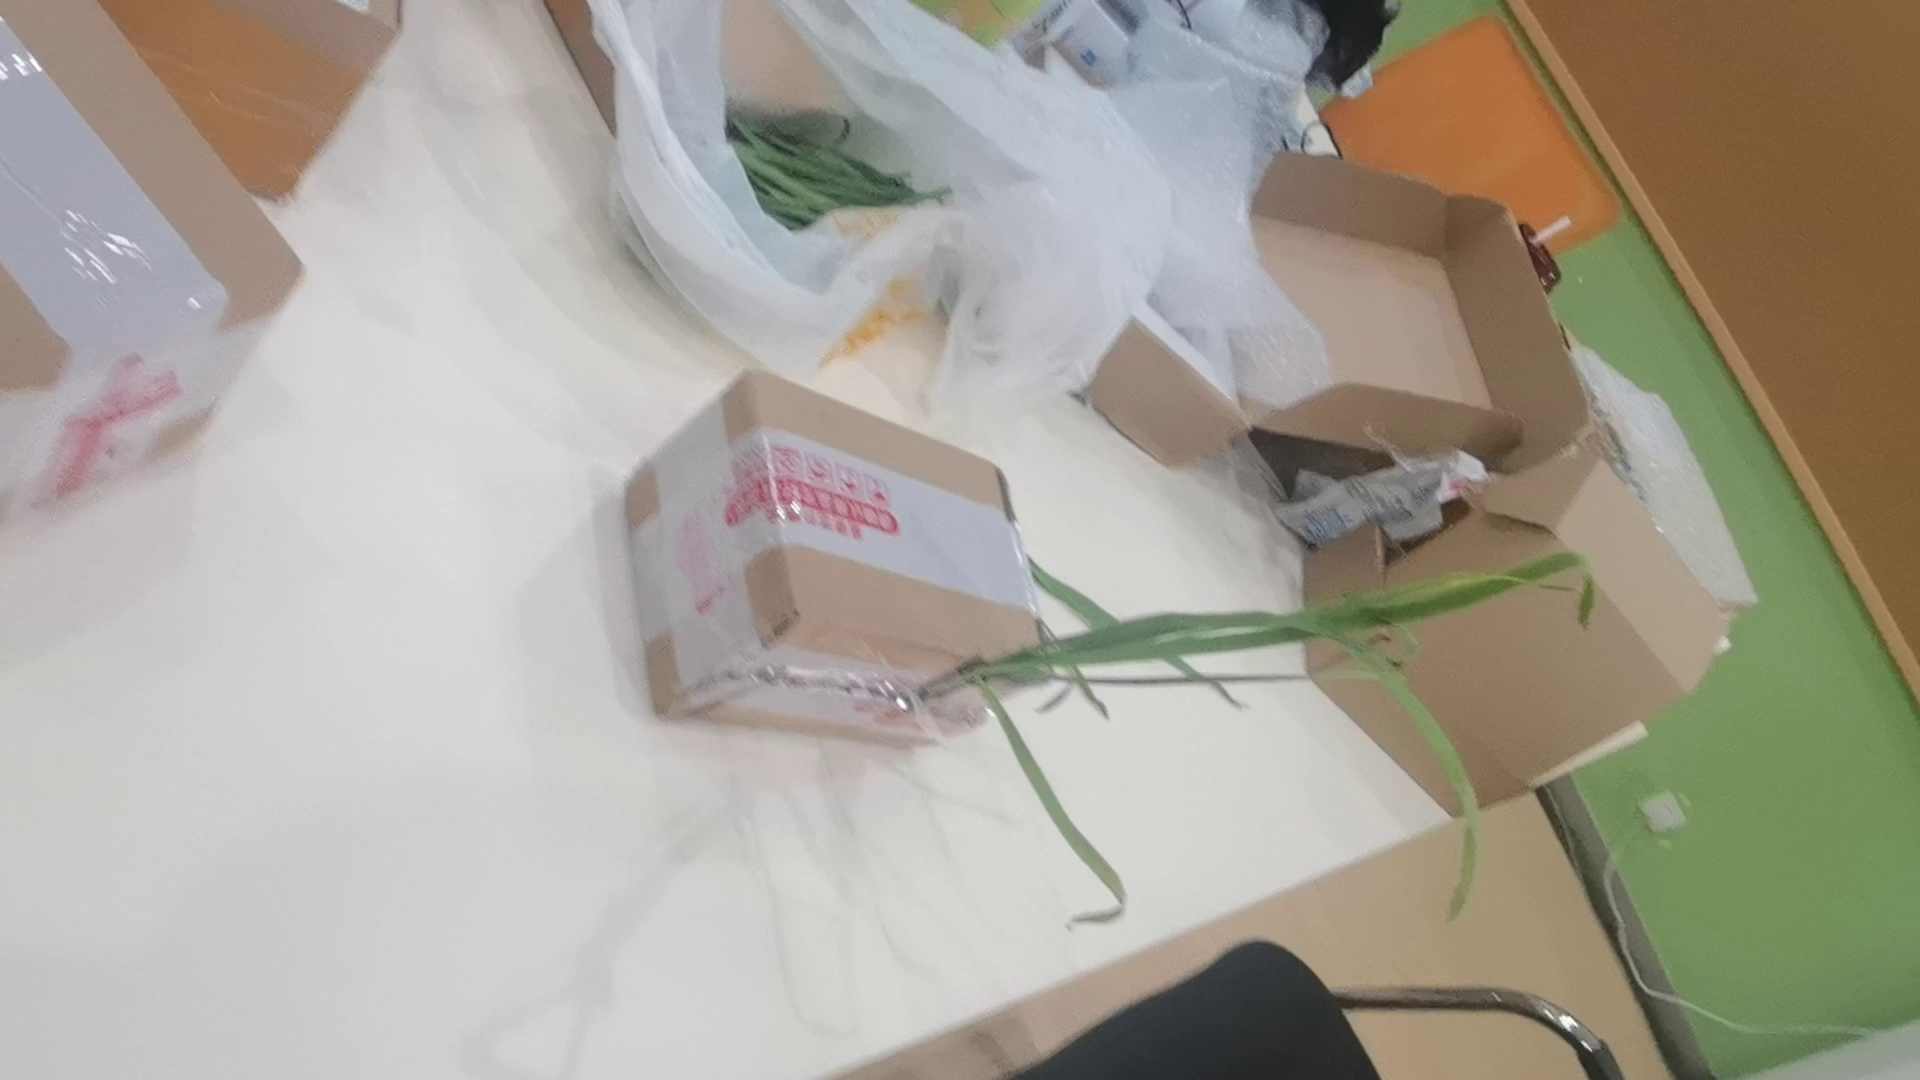chives: (909, 553, 1640, 930), (1038, 555, 1134, 624)
